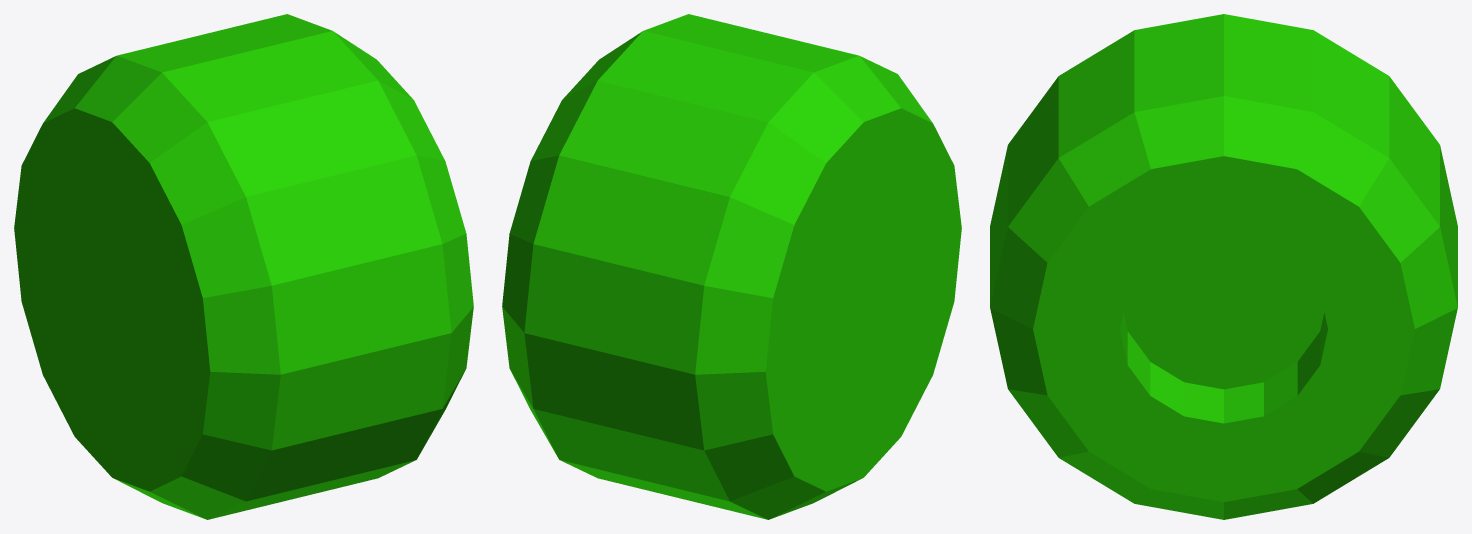
Rendered from wheel3.fbx.
3 renders of one model, left to right at view 1: azimuth 30°, elevation 25°; view 2: azimuth 150°, elevation 25°; view 3: azimuth 270°, elevation 25°, orthographic.
Visible parts, largest first — view 1: wheel3; view 2: wheel3; view 3: wheel3.
Boxes of the visible parts, x1=… form: wheel3: x1=14, y1=14, x2=473, y2=519; wheel3: x1=502, y1=14, x2=961, y2=519; wheel3: x1=990, y1=14, x2=1457, y2=519.
Bounding box in the file's own units: 0.312 × 0.4851 × 0.4851.
